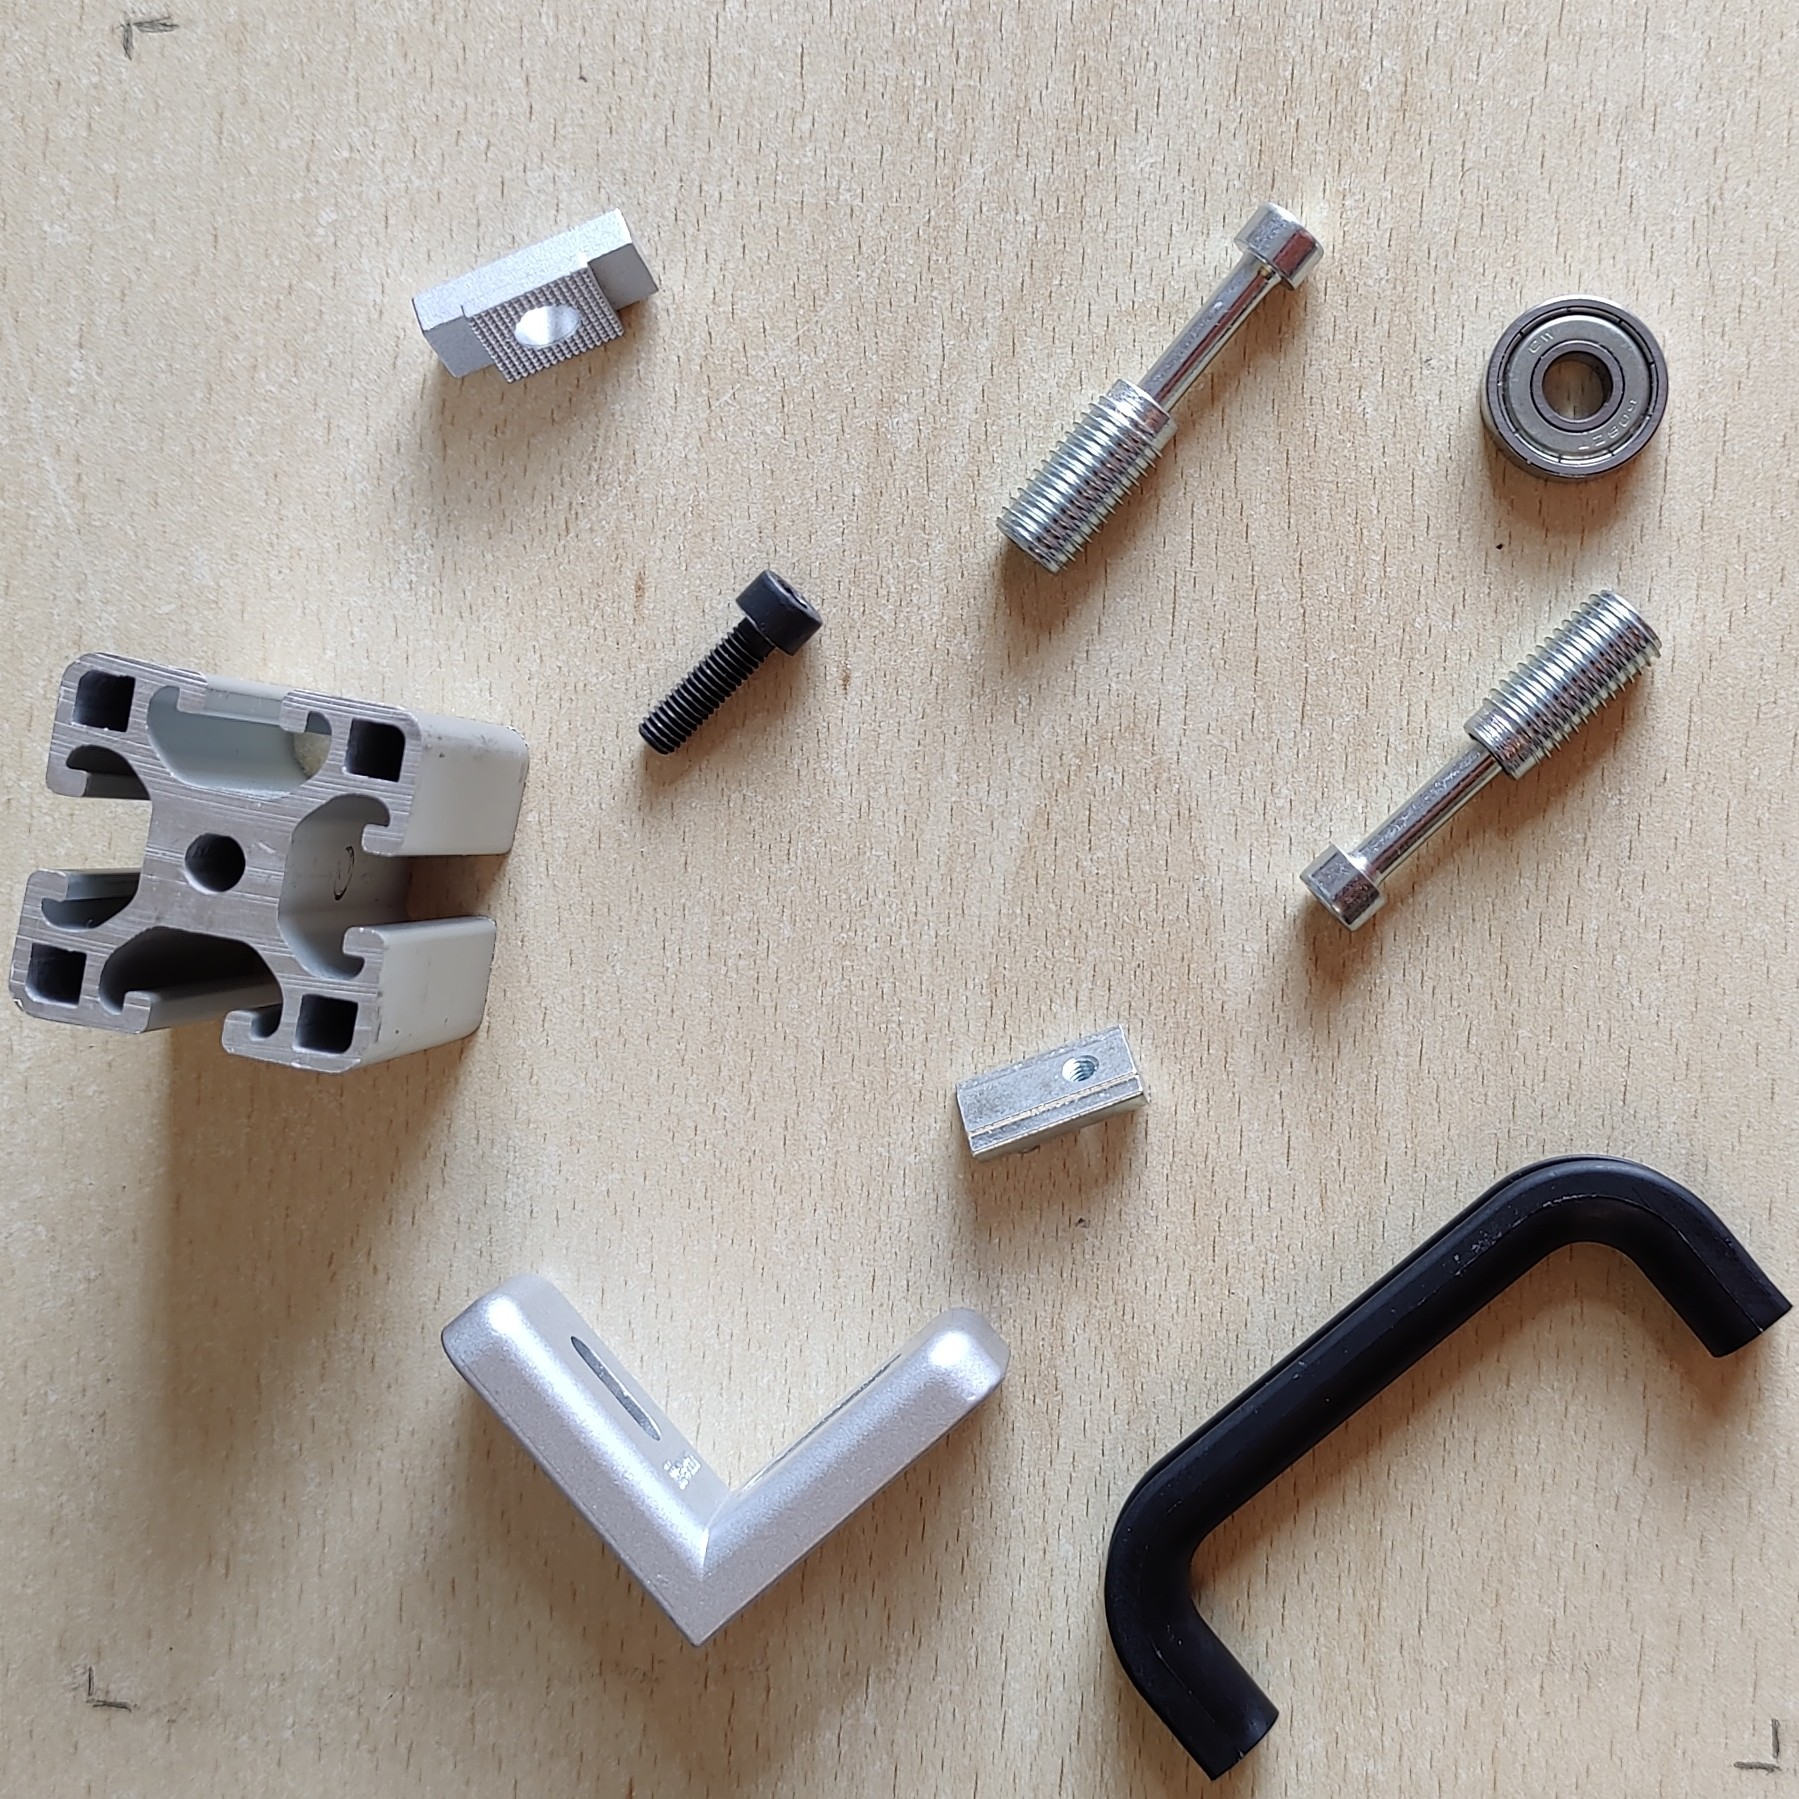Aluminium Extension: (5, 651, 532, 1077)
Ball Bearing: (1476, 295, 1670, 488)
Multiwinkel: (438, 1269, 1012, 1652)
Pull Handle: (1104, 1153, 1799, 1786)
Shoulder Socket Head Cap Screw: (1298, 585, 1666, 936), (992, 198, 1326, 578)
Socket Head Cap Screw: (634, 568, 824, 756)
T Nut Square: (410, 206, 662, 387)
T Spring Nut: (952, 1021, 1152, 1165)
